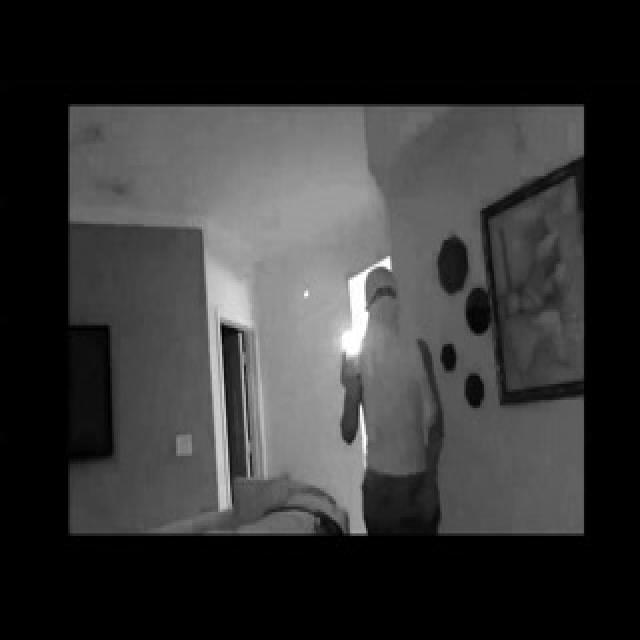thief: (358, 257, 421, 398)
